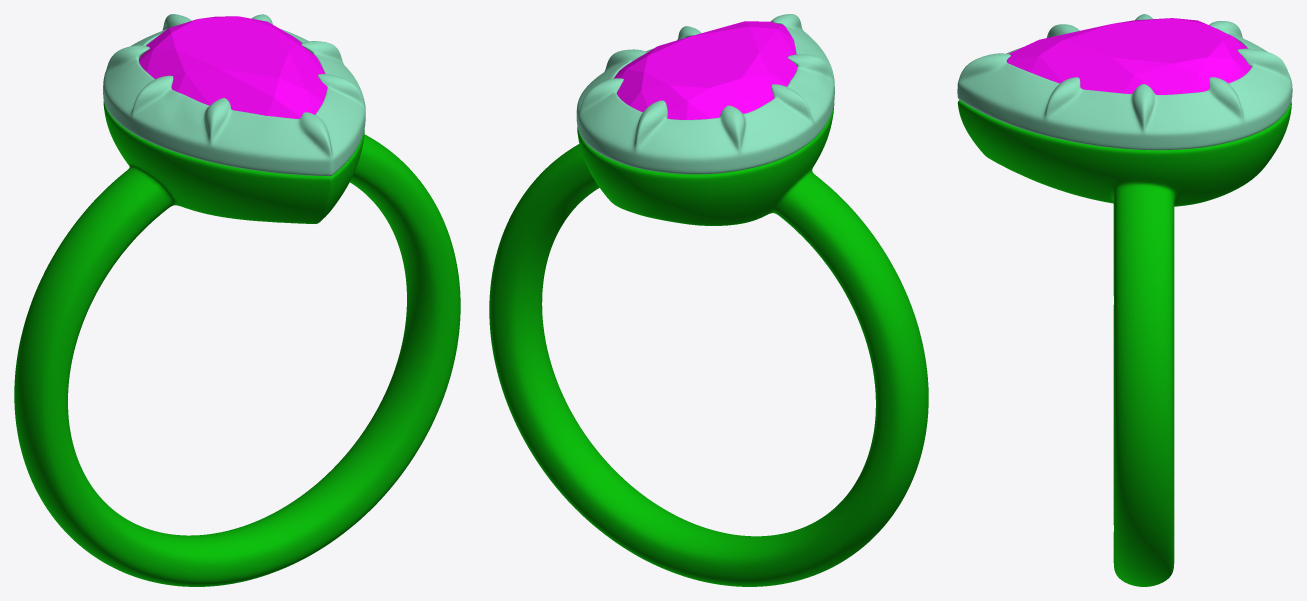
File: BE1727_PE_200ct_RENDER.glb
3 views of the same model, side by side, from view 1: azimuth 30°, elevation 25°; view 2: azimuth 150°, elevation 25°; view 3: azimuth 270°, elevation 25° (orthographic).
Visible parts, largest first — view 1: Metal 01, Metal 02, CS_Diamond_Pear; view 2: Metal 01, Metal 02, CS_Diamond_Pear; view 3: Metal 01, Metal 02, CS_Diamond_Pear.
Boxes of the visible parts, x1,y1,x2,y2 form: Metal 01: (14,101,460,586); Metal 02: (103,14,365,176); CS_Diamond_Pear: (139,16,327,118); Metal 01: (489,103,928,586); Metal 02: (576,14,834,174); CS_Diamond_Pear: (613,21,797,119); Metal 01: (957,100,1291,586); Metal 02: (957,14,1292,150); CS_Diamond_Pear: (1006,18,1251,94).
Size of the model in its own units: 20.49 by 23.85 by 13.84.
